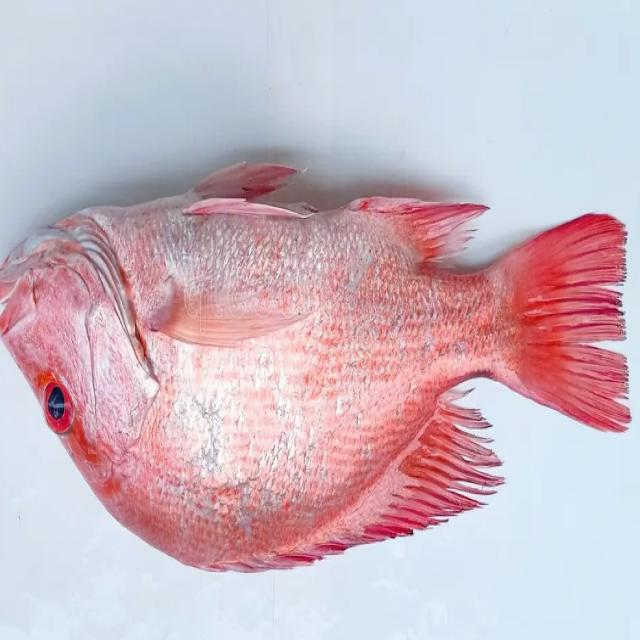Red Snapper: (0, 162, 632, 576)
